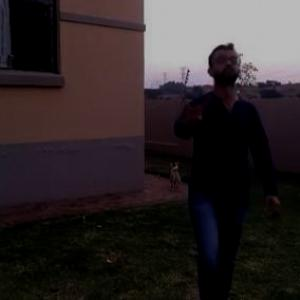takeoff-hand: (178, 94, 215, 133)
